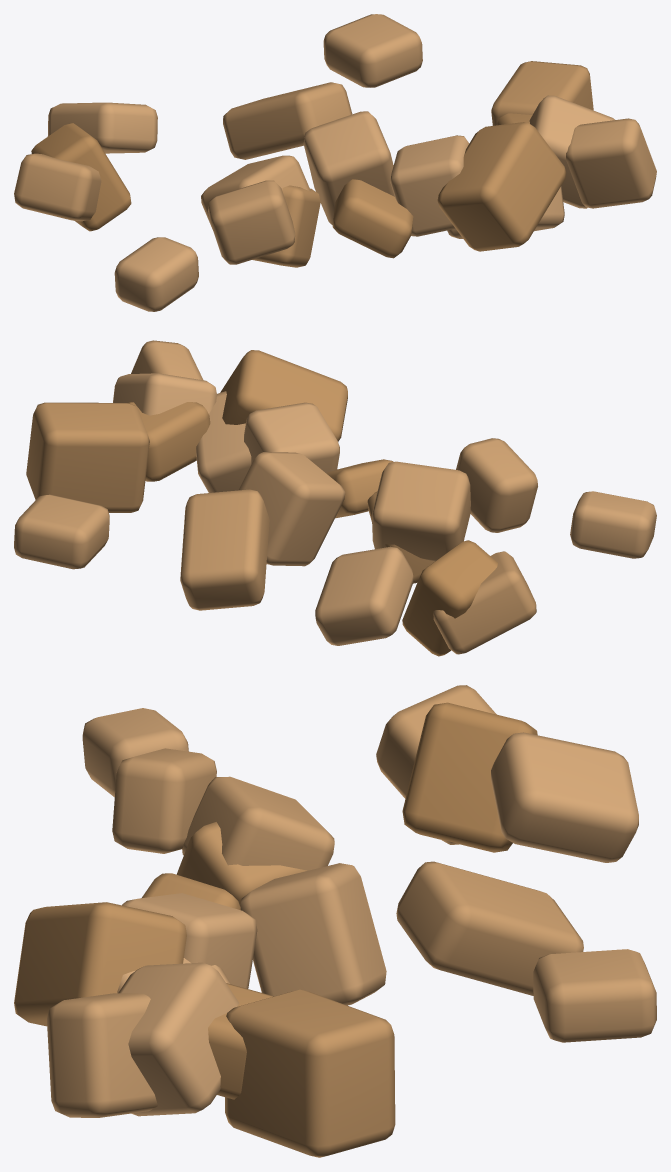
File: NJD-09.glb
3 views of the same model, one above another, from view 1: azimuth 30°, elevation 25°; view 2: azimuth 150°, elevation 25°; view 3: azimuth 270°, elevation 25° (orthographic). The views are drawn at different scales.
Visible parts, largest first — view 1: collapsed earth.006, collapsed earth, collapsed earth.004, collapsed earth.005, collapsed earth.001, collapsed earth.017, collapsed earth.010, collapsed earth.008, collapsed earth.003, collapsed earth.012, collapsed earth.009, collapsed earth.007 (+5 smaller); view 2: collapsed earth.007, collapsed earth.004, collapsed earth.011, collapsed earth.005, collapsed earth.009, collapsed earth.006, collapsed earth.001, collapsed earth.017, collapsed earth.016, collapsed earth.003, collapsed earth.008, collapsed earth.010 (+6 smaller); view 3: collapsed earth.007, collapsed earth.004, collapsed earth.005, collapsed earth.009, collapsed earth.006, collapsed earth.016, collapsed earth.002, collapsed earth, collapsed earth.001, collapsed earth.011, collapsed earth.017, collapsed earth.010 (+5 smaller).
Boxes of the visible parts, x1,y1,x2,y2 form: collapsed earth.006: (437, 122, 566, 251); collapsed earth: (566, 118, 656, 208); collapsed earth.004: (223, 82, 352, 159); collapsed earth.005: (303, 111, 394, 225); collapsed earth.001: (323, 14, 422, 87); collapsed earth.017: (208, 180, 295, 264); collapsed earth.010: (390, 135, 469, 236); collapsed earth.008: (114, 237, 198, 311); collapsed earth.003: (14, 153, 101, 221); collapsed earth.012: (332, 179, 413, 258); collapsed earth.009: (47, 102, 157, 153); collapsed earth.007: (491, 61, 593, 125); collapsed earth.007: (26, 402, 149, 512); collapsed earth.004: (180, 489, 269, 610); collapsed earth.011: (372, 461, 470, 561); collapsed earth.005: (239, 452, 345, 566); collapsed earth.009: (315, 546, 413, 645); collapsed earth.006: (220, 350, 347, 441); collapsed earth.001: (14, 494, 109, 569); collapsed earth.017: (456, 438, 537, 532); collapsed earth.016: (402, 540, 497, 656); collapsed earth.003: (433, 551, 536, 654); collapsed earth.008: (570, 491, 656, 558); collapsed earth.010: (244, 402, 339, 473); collapsed earth.007: (225, 989, 395, 1157); collapsed earth.004: (396, 861, 583, 995); collapsed earth.005: (240, 863, 386, 1005); collapsed earth.009: (491, 732, 638, 862); collapsed earth.006: (14, 902, 186, 1026); collapsed earth.016: (402, 702, 537, 852); collapsed earth.002: (118, 962, 239, 1116); collapsed earth: (47, 993, 157, 1117); collapsed earth.001: (533, 949, 656, 1042); collapsed earth.011: (182, 776, 334, 870); collapsed earth.017: (112, 748, 216, 853); collapsed earth.010: (122, 893, 257, 988).
Size of the model in its own units: 2.02 by 0.4792 by 1.43.
